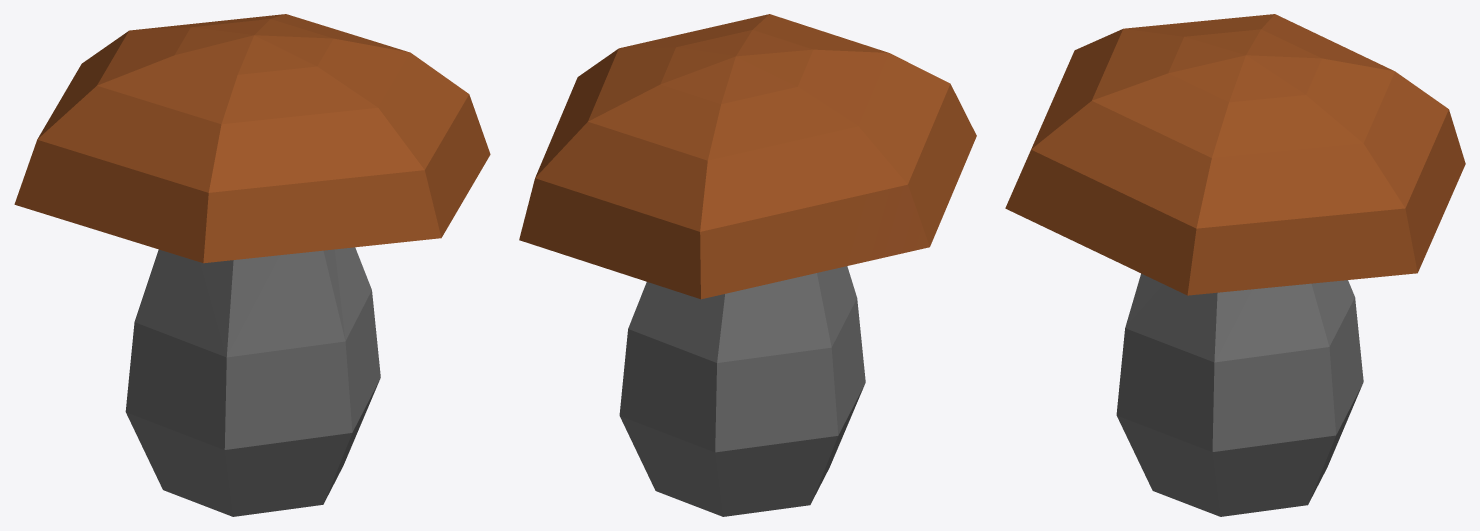
File: Mushroom01.fbx
3 views of the same model, side by side, from view 1: azimuth 30°, elevation 25°; view 2: azimuth 150°, elevation 25°; view 3: azimuth 270°, elevation 25° (orthographic). The views are drawn at different scales.
Parts seen in each view (by area): view 1: Mushroom01; view 2: Mushroom01; view 3: Mushroom01.
Part boxes in pixels (x1=…): Mushroom01: x1=14, y1=14, x2=490, y2=516; Mushroom01: x1=519, y1=14, x2=976, y2=516; Mushroom01: x1=1005, y1=14, x2=1465, y2=516.
Size of the model in its own units: 56.85 by 55.95 by 54.86.
